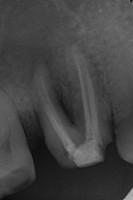Endo-Periodontal Lesion: (54, 89, 75, 125)
